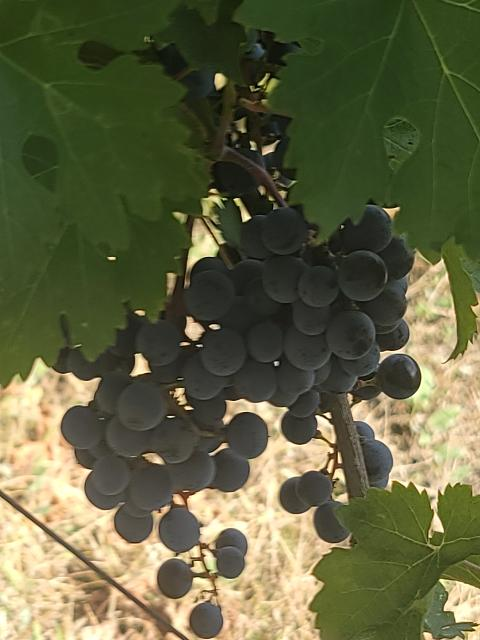grapes: (55, 259, 268, 599), (240, 205, 420, 444)
